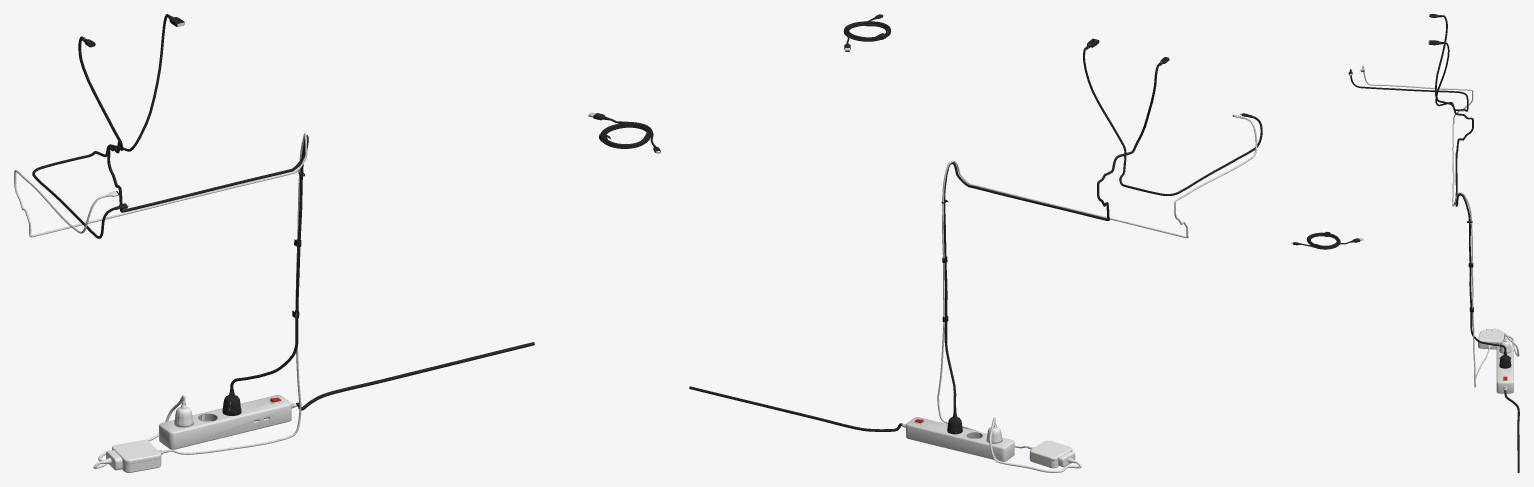
Rendered from cables.glb.
The picture shows the model from 3 angles, left to right: view 1: azimuth 30°, elevation 25°; view 2: azimuth 150°, elevation 25°; view 3: azimuth 270°, elevation 25°; orthographic projection. The views are drawn at different scales.
Parts seen in each view (by area): view 1: NEW_cables_root__mesh; view 2: NEW_cables_root__mesh; view 3: NEW_cables_root__mesh.
Part boxes in pixels (x1,y1,x2,y2): NEW_cables_root__mesh: (14,14,660,472); NEW_cables_root__mesh: (689,14,1262,472); NEW_cables_root__mesh: (1291,14,1519,472).
Size of the model in its own units: 1.31 by 1.05 by 0.7199.
Materials: 2 (2 with a texture image).
